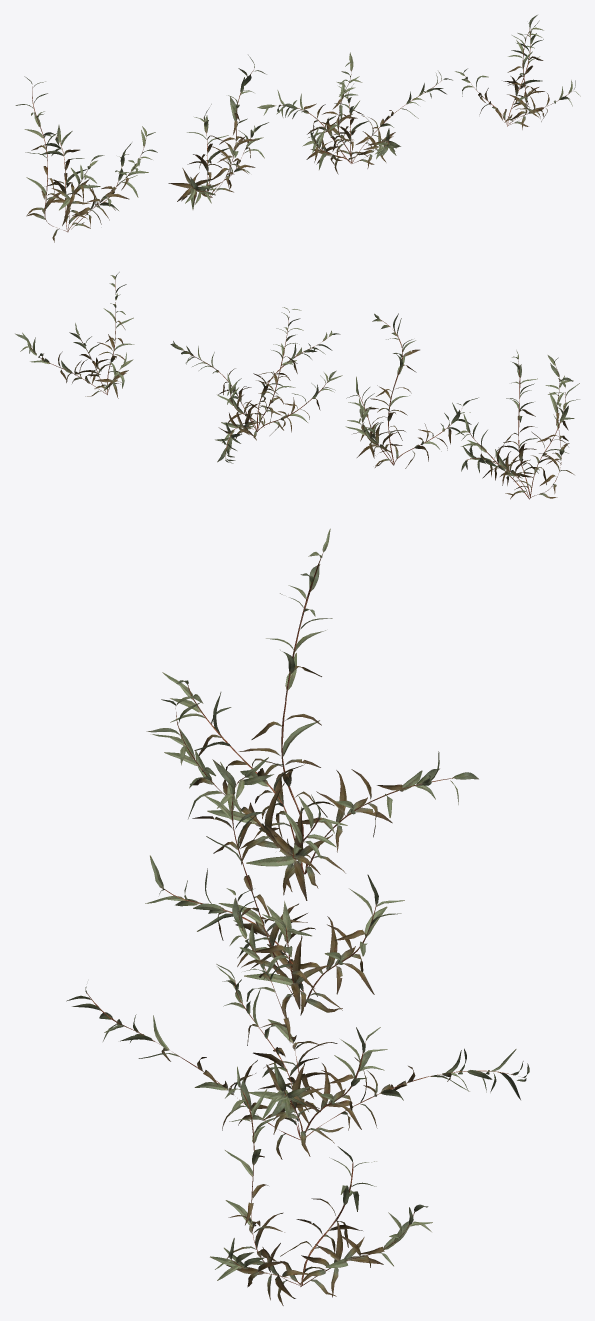
Rendered from shrub_02.glb.
3 views of the same model, one above another, from view 1: azimuth 30°, elevation 25°; view 2: azimuth 150°, elevation 25°; view 3: azimuth 270°, elevation 25° (orthographic). The views are drawn at different scales.
Parts seen in each view (by area): view 1: shrub_02_c, shrub_02_a, shrub_02_b, shrub_02_d; view 2: shrub_02_a, shrub_02_c, shrub_02_b, shrub_02_d; view 3: shrub_02_a, shrub_02_c, shrub_02_b, shrub_02_d.
Part boxes in pixels (bbox=[...]): shrub_02_c: bbox=[257, 52, 452, 174]; shrub_02_a: bbox=[15, 76, 157, 242]; shrub_02_b: bbox=[168, 55, 268, 209]; shrub_02_d: bbox=[455, 15, 580, 129]; shrub_02_a: bbox=[455, 350, 579, 499]; shrub_02_c: bbox=[170, 307, 342, 463]; shrub_02_b: bbox=[345, 313, 478, 468]; shrub_02_d: bbox=[15, 272, 134, 398]; shrub_02_a: bbox=[146, 528, 478, 900]; shrub_02_c: bbox=[66, 888, 529, 1159]; shrub_02_b: bbox=[145, 757, 404, 1018]; shrub_02_d: bbox=[210, 1066, 432, 1305].
Size of the model in its own units: 6.05 by 1.7 by 2.29.
Materials: 1 (1 with a texture image).
